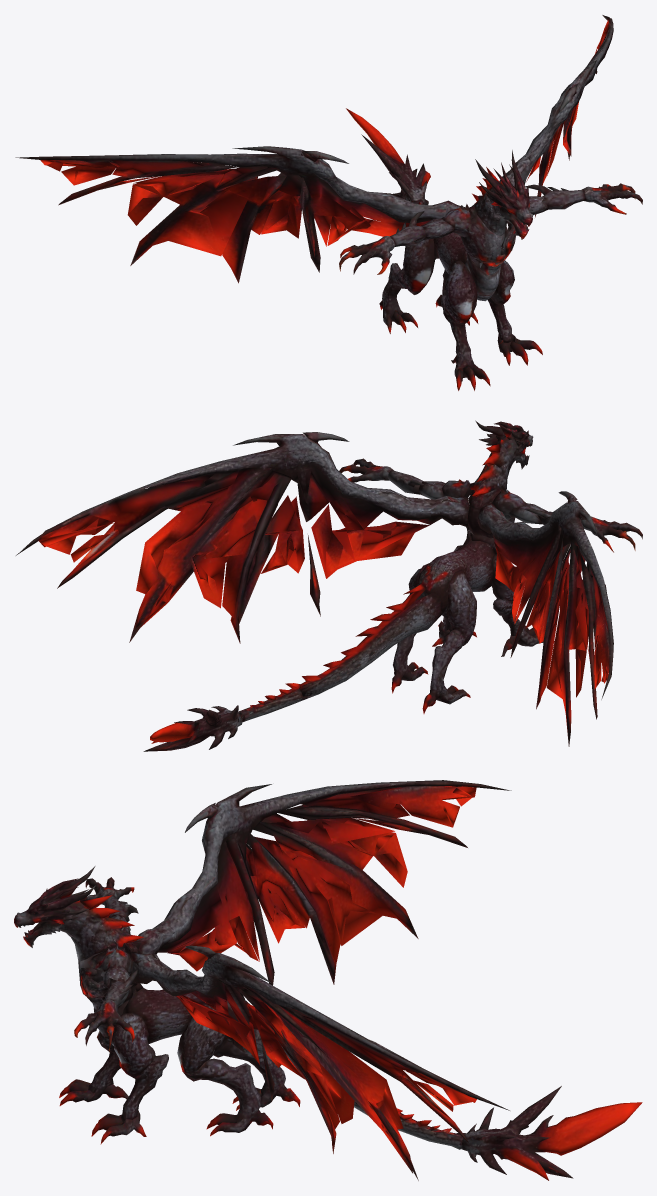
File: RedDragonV1.0.static.glb
3 views of the same model, one above another, from view 1: azimuth 30°, elevation 25°; view 2: azimuth 150°, elevation 25°; view 3: azimuth 270°, elevation 25° (orthographic). The views are drawn at different scales.
Visible parts, largest first — view 1: tripo_part_31, tripo_part_5, tripo_part_25, tripo_part_24, tripo_part_7, tripo_part_1, tripo_part_17, tripo_part_30, tripo_part_29, tripo_part_6, tripo_part_27, tripo_part_4 (+13 smaller); view 2: tripo_part_7, tripo_part_41, tripo_part_37, tripo_part_5, tripo_part_35, tripo_part_31, tripo_part_40, tripo_part_8, tripo_part_27, tripo_part_1, tripo_part_24, tripo_part_26 (+19 smaller); view 3: tripo_part_5, tripo_part_31, tripo_part_1, tripo_part_7, tripo_part_41, tripo_part_25, tripo_part_24, tripo_part_37, tripo_part_35, tripo_part_3, tripo_part_27, tripo_part_40 (+18 smaller).
Boxes of the visible parts, box(x1,y1,x2,y2) form: tripo_part_31: box(127, 168, 286, 283); tripo_part_5: box(15, 146, 460, 246); tripo_part_25: box(40, 160, 238, 185); tripo_part_24: box(250, 173, 314, 257); tripo_part_7: box(499, 16, 613, 186); tripo_part_1: box(346, 108, 430, 204); tripo_part_17: box(444, 260, 477, 323); tripo_part_30: box(460, 204, 504, 268); tripo_part_29: box(402, 238, 436, 294); tripo_part_6: box(339, 236, 395, 274); tripo_part_27: box(433, 232, 493, 301); tripo_part_4: box(581, 183, 642, 214); tripo_part_7: box(22, 434, 469, 549); tripo_part_41: box(135, 462, 277, 628); tripo_part_37: box(190, 495, 304, 623); tripo_part_5: box(477, 501, 613, 699); tripo_part_35: box(16, 473, 231, 570); tripo_part_31: box(536, 541, 588, 746); tripo_part_40: box(311, 498, 429, 578); tripo_part_8: box(299, 592, 443, 696); tripo_part_27: box(407, 538, 496, 612); tripo_part_1: box(143, 705, 243, 751); tripo_part_24: box(524, 536, 570, 688); tripo_part_26: box(422, 629, 470, 713); tripo_part_5: box(136, 780, 511, 971); tripo_part_31: box(247, 817, 418, 984); tripo_part_1: box(461, 1086, 642, 1180); tripo_part_7: box(130, 951, 499, 1106); tripo_part_41: box(264, 1002, 412, 1173); tripo_part_25: box(278, 785, 476, 827); tripo_part_24: box(244, 832, 332, 961); tripo_part_37: box(248, 1006, 354, 1137); tripo_part_35: box(279, 1005, 509, 1120); tripo_part_3: box(183, 1058, 273, 1136); tripo_part_27: box(104, 987, 247, 1045); tripo_part_40: box(176, 995, 259, 1064).
Bounding box in the file's own units: 0.9998 × 0.3552 × 0.8281.
Materials: 1 (1 with a texture image).
